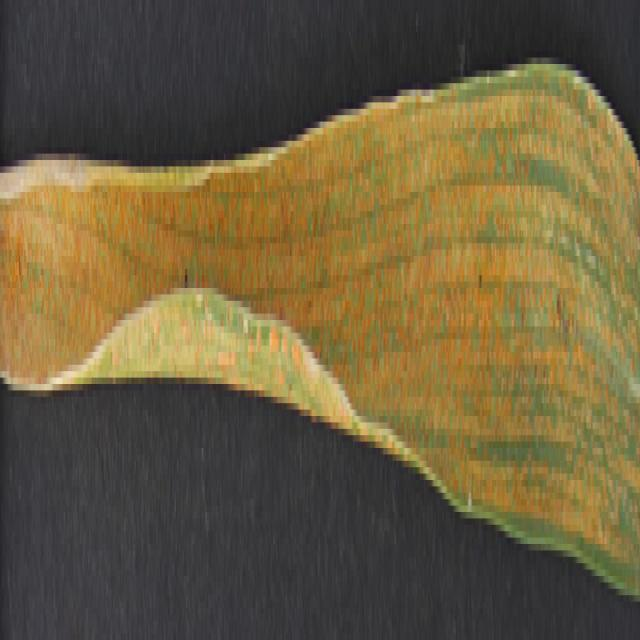leaf rust: (1, 64, 639, 582)
